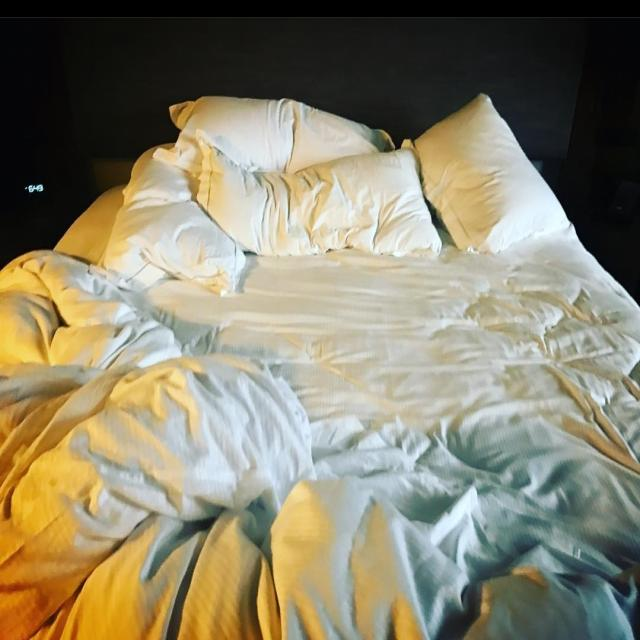bed: (24, 93, 640, 640)
